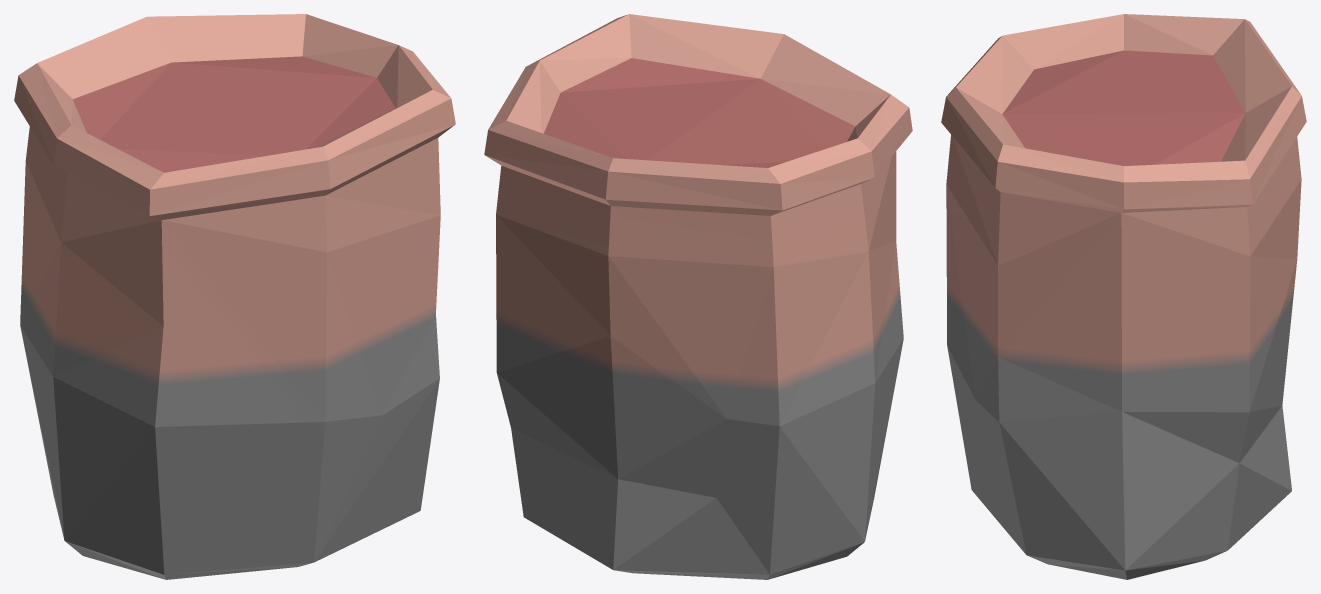
File: Bag_01.fbx
3 views of the same model, side by side, from view 1: azimuth 30°, elevation 25°; view 2: azimuth 150°, elevation 25°; view 3: azimuth 270°, elevation 25° (orthographic). The views are drawn at different scales.
Visible parts, largest first — view 1: Bag_01; view 2: Bag_01; view 3: Bag_01.
Boxes of the visible parts, bbox=[...] form: Bag_01: bbox=[14, 14, 455, 579]; Bag_01: bbox=[484, 14, 912, 579]; Bag_01: bbox=[941, 14, 1306, 579].
Bounding box in the file's own units: 56.3 × 66.28 × 51.49.
